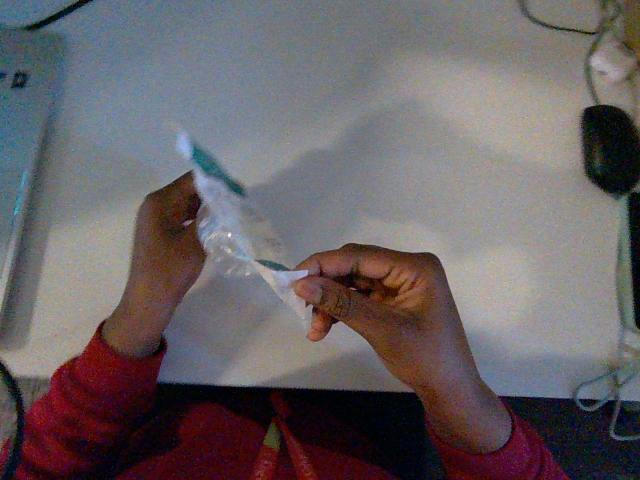gallipot: (176, 131, 307, 319)
